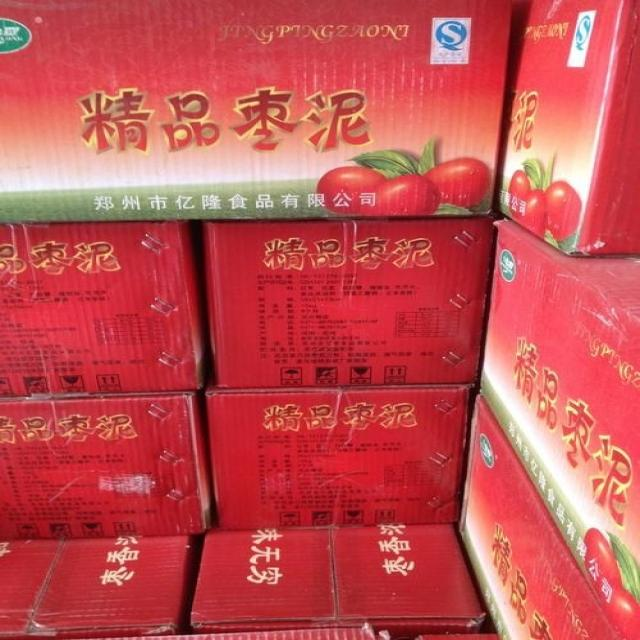box: (1, 2, 517, 221), (482, 206, 639, 639), (198, 215, 496, 390), (208, 384, 475, 530), (459, 386, 612, 639), (0, 219, 207, 394), (501, 0, 638, 256), (192, 524, 493, 628), (0, 390, 207, 539), (2, 534, 198, 635), (77, 622, 375, 639), (420, 628, 504, 639)
